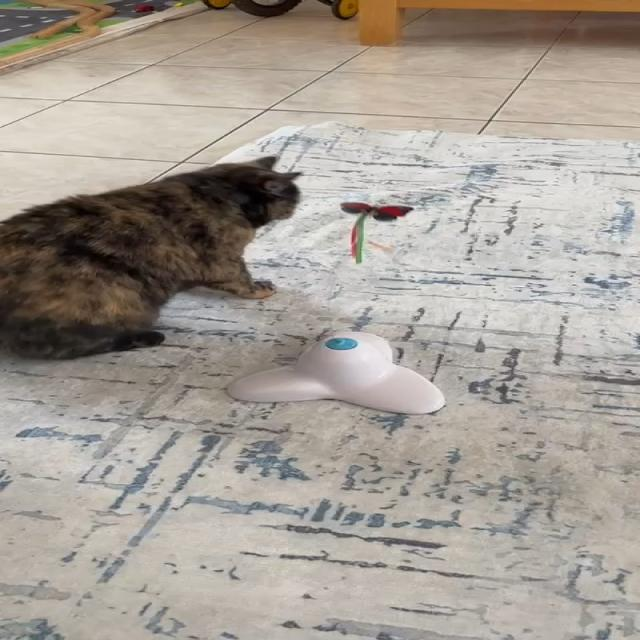authorized: (0, 154, 303, 360)
